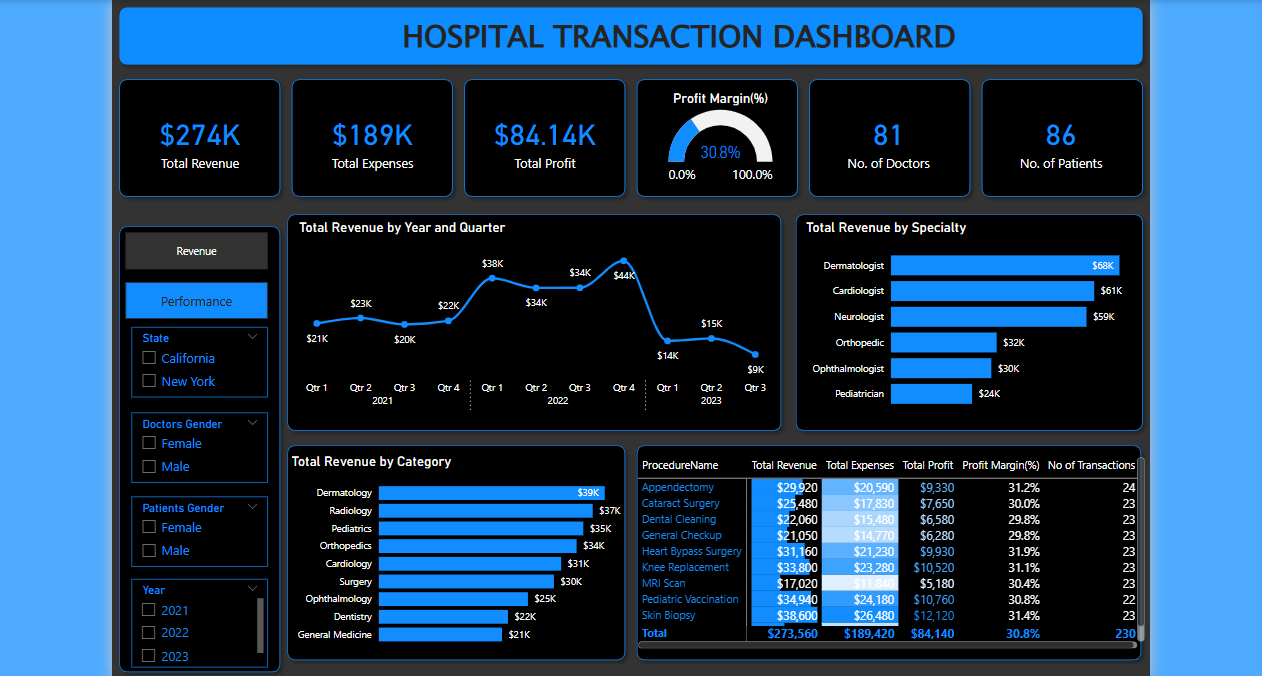

The dashboard page shown, as its layout file describes it:
{"tool":"powerbi","page":{"name":"Revenue","canvas":[1300,850],"ordinal":0},"visuals":[{"type":"shape","box":[0,0,1299.4,90.1],"z":0},{"type":"shape","box":[0,90.1,219.7,165.2],"z":1000},{"type":"shape","box":[215.9,90.1,219.7,165.2],"z":2000},{"type":"shape","box":[1079.7,90.1,219.7,165.2],"z":3000},{"type":"shape","box":[863.8,90.1,219.7,165.2],"z":4000},{"type":"shape","box":[647.8,90.1,219.7,165.2],"z":5000},{"type":"shape","box":[431.9,90.1,219.7,165.2],"z":6000},{"type":"shape","box":[0.6,274.1,219.7,576.5],"z":7000},{"type":"shape","box":[210.3,259.1,636.6,289.2],"z":8000},{"type":"shape","box":[210.3,548.3,441.3,287.3],"z":9000},{"type":"shape","box":[647.8,548.3,649.7,287.3],"z":10000},{"type":"shape","box":[846.9,259.1,452.6,289.2],"z":11000},{"type":"card","fields":{"Values":["Calculated Measure.Total Revenue"]},"box":[24.4,112.7,170.9,125.8],"z":12000},{"type":"card","fields":{"Values":["Calculated Measure.Total Expenses"]},"box":[240.4,112.7,170.9,125.8],"z":13000},{"type":"card","fields":{"Values":["Calculated Measure.Total Profit"]},"box":[456.3,112.7,170.9,125.8],"z":14000},{"type":"gauge","fields":{"Y":["Calculated Measure.Profit Margin(%)"]},"box":[676,112.7,170.9,125.8],"z":15000},{"type":"card","fields":{"Values":["CountNonNull(Doctors Dim.DoctorID)"]},"box":[886.3,112.7,170.9,125.8],"z":16000},{"type":"card","fields":{"Values":["CountNonNull(Patients Dim.PatientID)"]},"box":[1102.3,112.7,170.9,125.8],"z":17000},{"type":"lineChart","fields":{"Y":["Calculated Measure.Total Revenue"],"Category":["Calender Dim.Date.Variation.Date Hierarchy.Year","Calender Dim.Date.Variation.Date Hierarchy.Quarter"]},"box":[229.1,274.2,602.8,249.7],"z":18000},{"type":"clusteredBarChart","fields":{"Y":["Calculated Measure.Total Revenue"],"Category":["Doctors Dim.Specialty"]},"box":[863.8,274.2,433.8,249.7],"z":19000},{"type":"clusteredBarChart","fields":{"Y":["Calculated Measure.Total Revenue"],"Category":["Procedure Dim.Category"]},"box":[219.7,567.1,433.8,249.7],"z":20000},{"type":"pivotTable","fields":{"Values":["Calculated Measure.Total Revenue","Calculated Measure.Total Expenses","Calculated Measure.Total Profit","Calculated Measure.Profit Margin(%)","CountNonNull(Hospital Transactions(Fact Table).TransactionID)"],"Rows":["Procedure Dim.ProcedureName"]},"box":[653.5,567.1,644.1,249.7],"z":21000},{"type":"slicer","fields":{"Values":["Location Dim.State"]},"box":[24.4,410,170.9,88.3],"z":22000},{"type":"slicer","fields":{"Values":["Doctors Dim.Doctor_Gender"]},"box":[24.4,516.2,170.9,88.3],"z":23000},{"type":"slicer","fields":{"Values":["Patients Dim.Patients_Gender"]},"box":[24.4,622.4,170.9,88.3],"z":24000},{"type":"slicer","fields":{"Values":["Calender Dim.Date.Variation.Date Hierarchy.Year"]},"box":[24.4,724.8,170.9,110.8],"z":25000},{"type":"textbox","box":[285.4,13.1,848.8,77],"z":26000},{"type":"pageNavigator","box":[16.9,291.1,178.4,108.9],"z":27000}]}

Visuals, with their boxes on the page's 1300x850 design canvas (x1, y1, x2, y2). These are canvas units, not pixel positions in the 1262x676 screenshot, which may show the page scaled, cropped or inside an application window:
shape: bbox=[0, 0, 1299, 90]
shape: bbox=[0, 90, 220, 255]
shape: bbox=[216, 90, 436, 255]
shape: bbox=[1080, 90, 1299, 255]
shape: bbox=[864, 90, 1084, 255]
shape: bbox=[648, 90, 868, 255]
shape: bbox=[432, 90, 652, 255]
shape: bbox=[1, 274, 220, 851]
shape: bbox=[210, 259, 847, 548]
shape: bbox=[210, 548, 652, 836]
shape: bbox=[648, 548, 1298, 836]
shape: bbox=[847, 259, 1300, 548]
card - Calculated Measure.Total Revenue: bbox=[24, 113, 195, 238]
card - Calculated Measure.Total Expenses: bbox=[240, 113, 411, 238]
card - Calculated Measure.Total Profit: bbox=[456, 113, 627, 238]
gauge - Calculated Measure.Profit Margin(%): bbox=[676, 113, 847, 238]
card - CountNonNull(Doctors Dim.DoctorID): bbox=[886, 113, 1057, 238]
card - CountNonNull(Patients Dim.PatientID): bbox=[1102, 113, 1273, 238]
lineChart - Calculated Measure.Total Revenue x Calender Dim.Date.Variation.Date Hierarchy.Year: bbox=[229, 274, 832, 524]
clusteredBarChart - Calculated Measure.Total Revenue x Doctors Dim.Specialty: bbox=[864, 274, 1298, 524]
clusteredBarChart - Calculated Measure.Total Revenue x Procedure Dim.Category: bbox=[220, 567, 654, 817]
pivotTable - Calculated Measure.Total Revenue x Calculated Measure.Total Expenses: bbox=[654, 567, 1298, 817]
slicer - Location Dim.State: bbox=[24, 410, 195, 498]
slicer - Doctors Dim.Doctor_Gender: bbox=[24, 516, 195, 604]
slicer - Patients Dim.Patients_Gender: bbox=[24, 622, 195, 711]
slicer - Calender Dim.Date.Variation.Date Hierarchy.Year: bbox=[24, 725, 195, 836]
textbox: bbox=[285, 13, 1134, 90]
pageNavigator: bbox=[17, 291, 195, 400]
